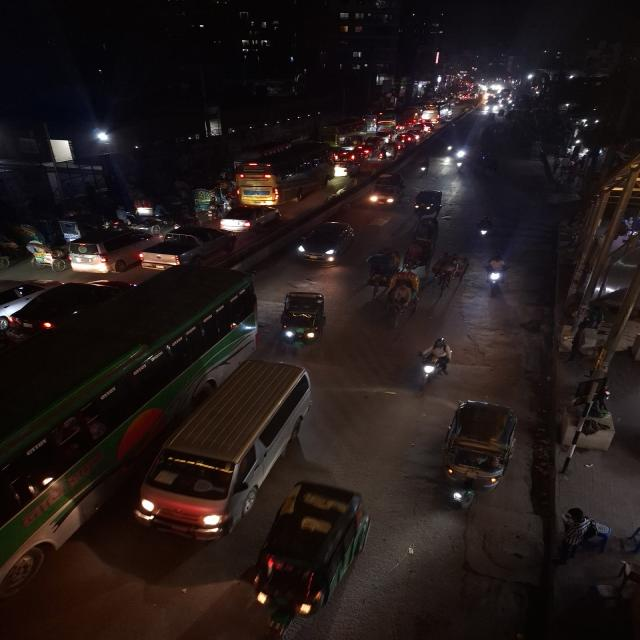bus: (230, 140, 336, 206), (322, 121, 360, 142), (375, 114, 395, 134)
car: (138, 359, 317, 547), (5, 274, 136, 338), (137, 225, 238, 270), (68, 228, 150, 272), (294, 217, 358, 266), (219, 204, 282, 232)
cng: (252, 480, 376, 638), (440, 399, 523, 514), (277, 288, 330, 356), (365, 172, 406, 210)
motorcycle: (414, 333, 455, 391), (480, 249, 515, 297), (474, 214, 498, 246), (415, 157, 431, 180), (204, 196, 216, 224)
pickup_van: (409, 186, 448, 222)
rickshaw: (380, 272, 424, 328), (363, 247, 402, 292), (430, 249, 469, 293), (21, 240, 68, 272), (410, 187, 447, 223), (0, 232, 18, 272), (132, 200, 153, 221), (192, 188, 209, 213)
